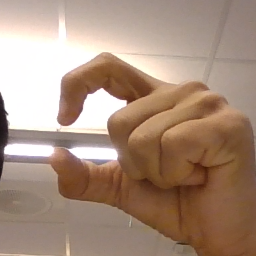C: (48, 50, 256, 243)
